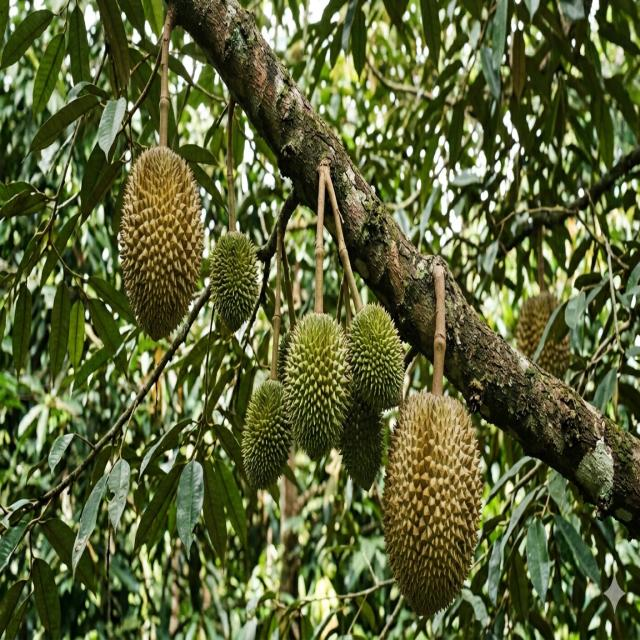immature: (382, 385, 484, 615), (117, 143, 203, 339), (280, 309, 350, 460), (344, 302, 404, 416), (241, 378, 294, 492), (207, 229, 261, 331), (338, 380, 388, 487), (516, 289, 570, 380)
